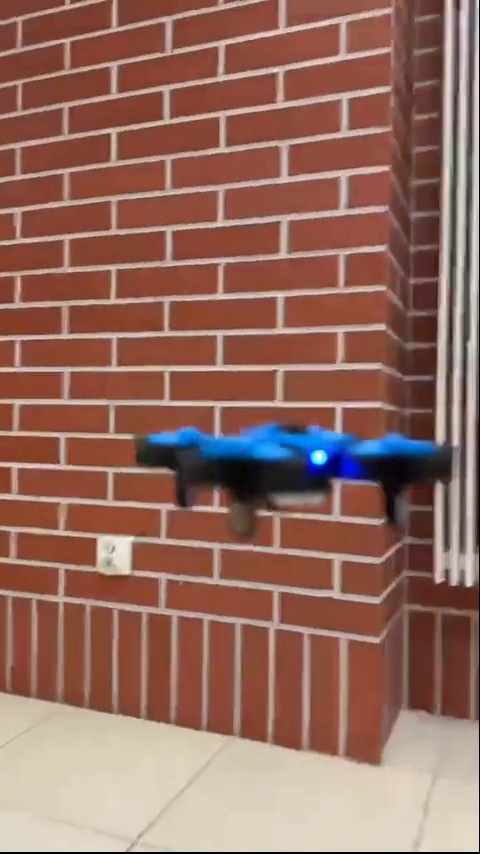drone: (140, 418, 453, 547)
